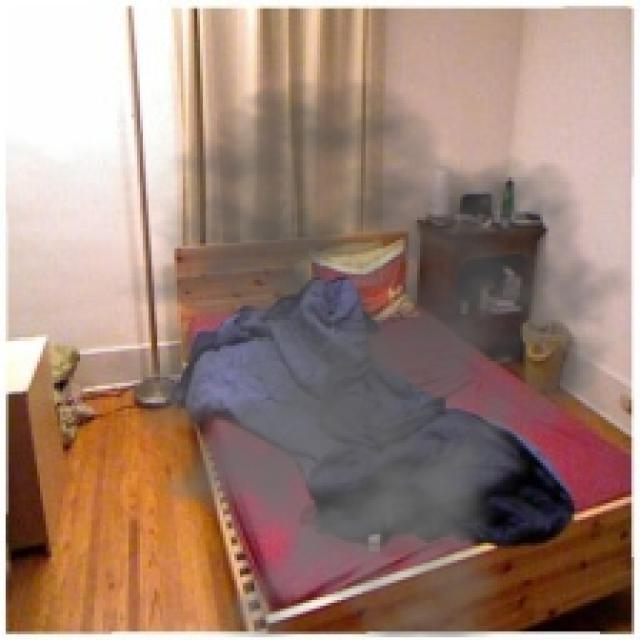Smoke: (68, 77, 634, 637)
